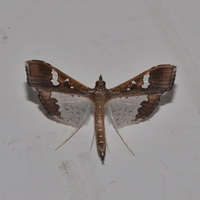insect: (25, 60, 175, 163)
